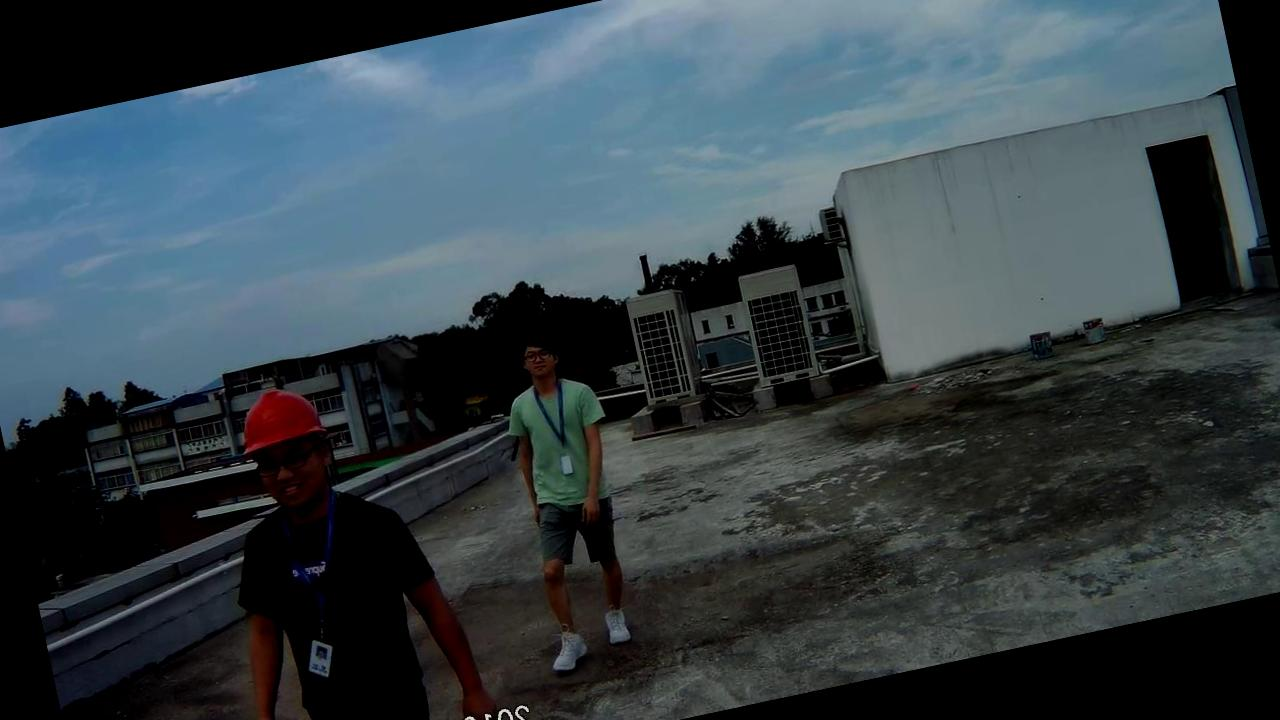helmet: (223, 369, 340, 484)
no_vest: (201, 469, 457, 720), (498, 361, 616, 518)
person: (173, 344, 483, 720), (472, 304, 668, 688)
